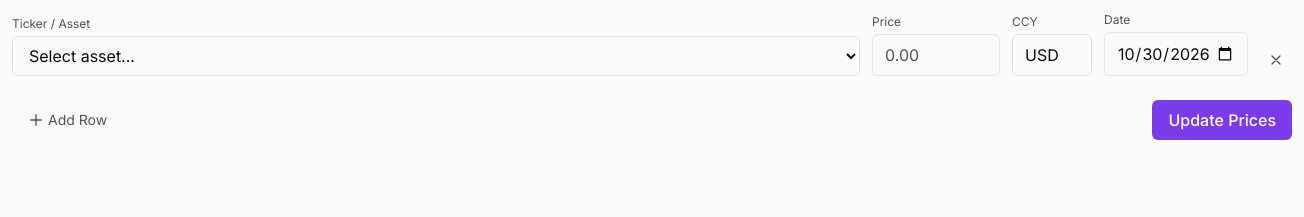
it: PriceUpdateForm in the price drawer › adds and removes rows
Click the button "Add Row" at point(68, 120), box [12,102,123,138]
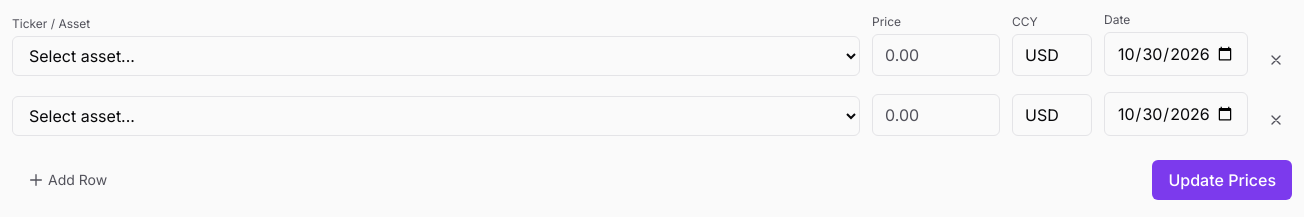
expect the number of dropdowns is 2: met, box [12,36,860,76]; [12,96,860,136]
Click the 2nd button named "Remove row" at point(1276, 120), box [1260,104,1292,136]
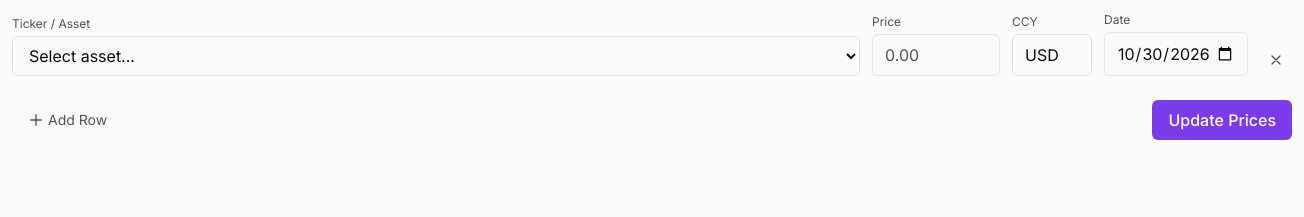
expect the number of dropdowns is 1: met, box [12,36,860,76]
